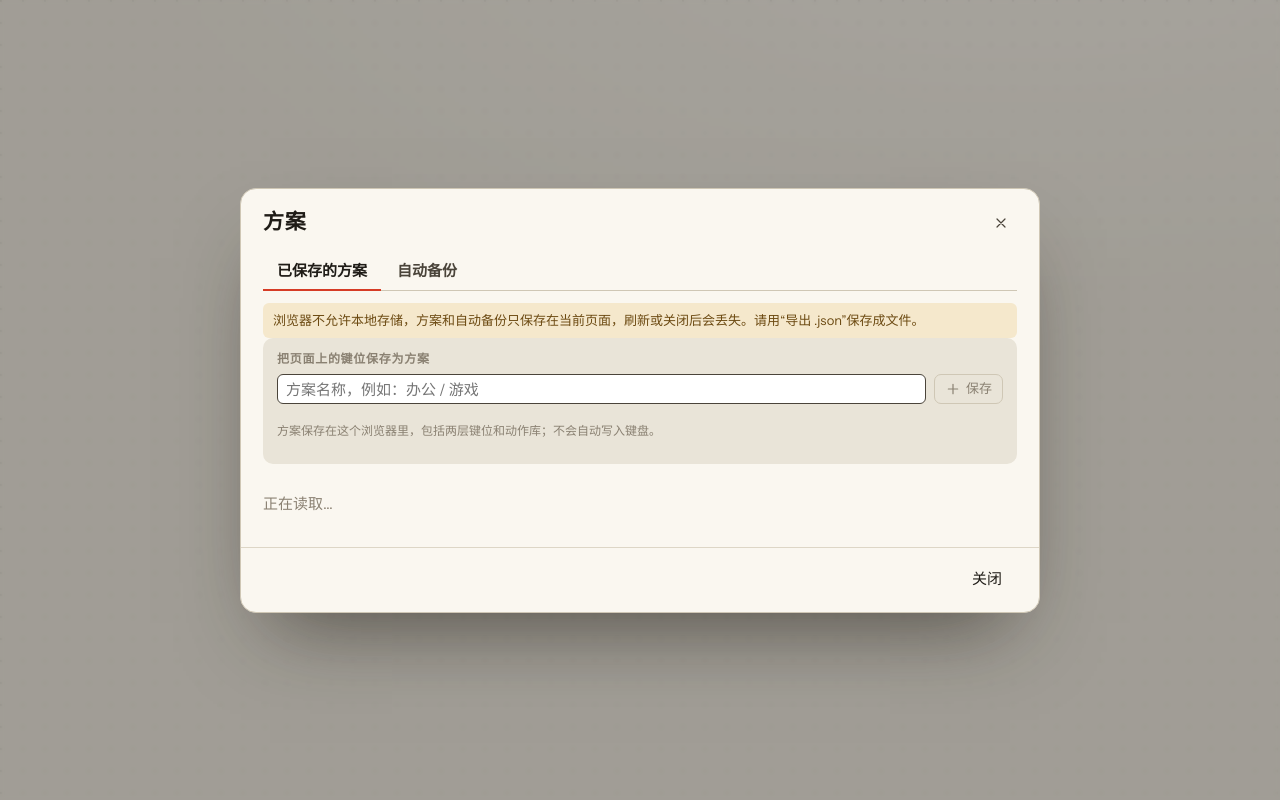
Test: ProfilesDialog › warns when only memory storage is available and shows store errors
Expected: the text "浏览器不允许本地存储，方案和自动备份只保存在当前页面，刷新或关闭后会丢失。请用“导出 .json”保存成文件。" is shown, [263,302,1017,338]
Type "x" into the field labelled "把页面上的键位保存为方案".
click(602, 389); type("x")  # box [277,374,926,404]
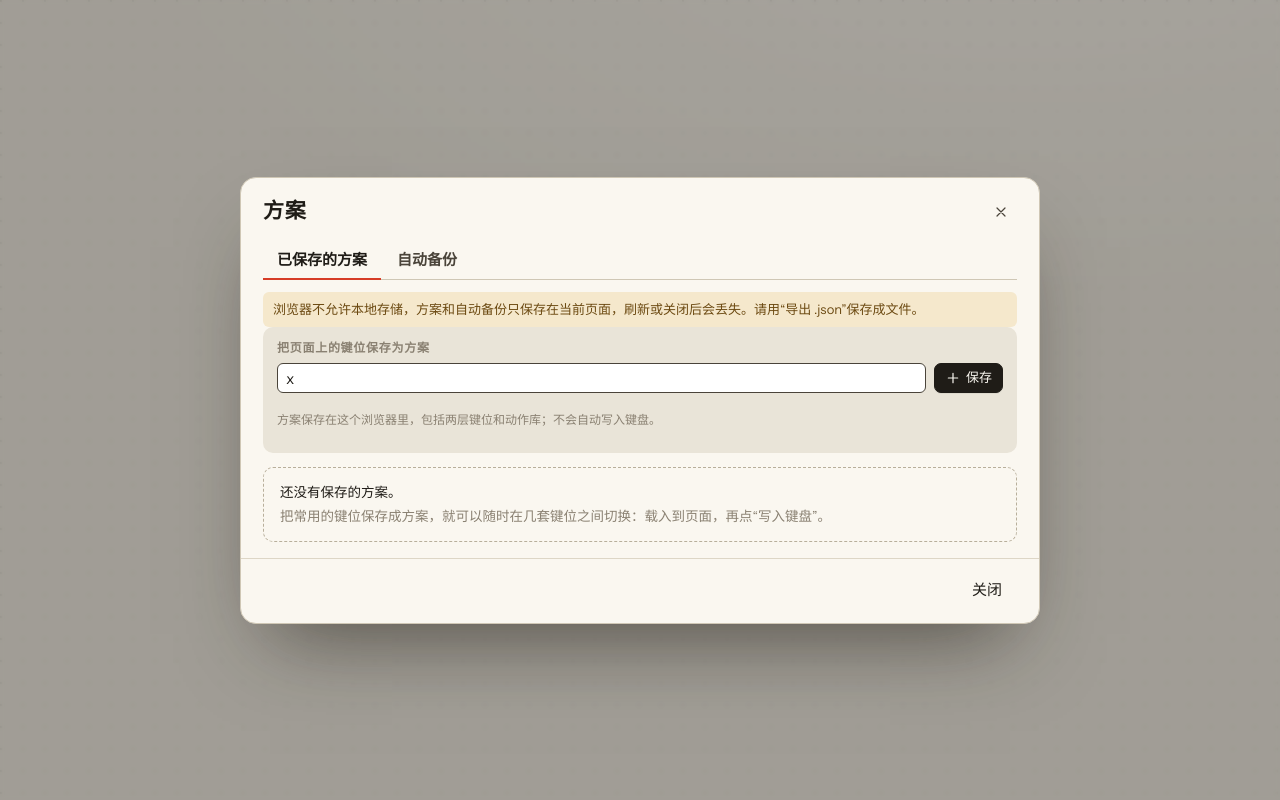
Click the button "保存".
click(968, 378)  # box [934,363,1003,393]
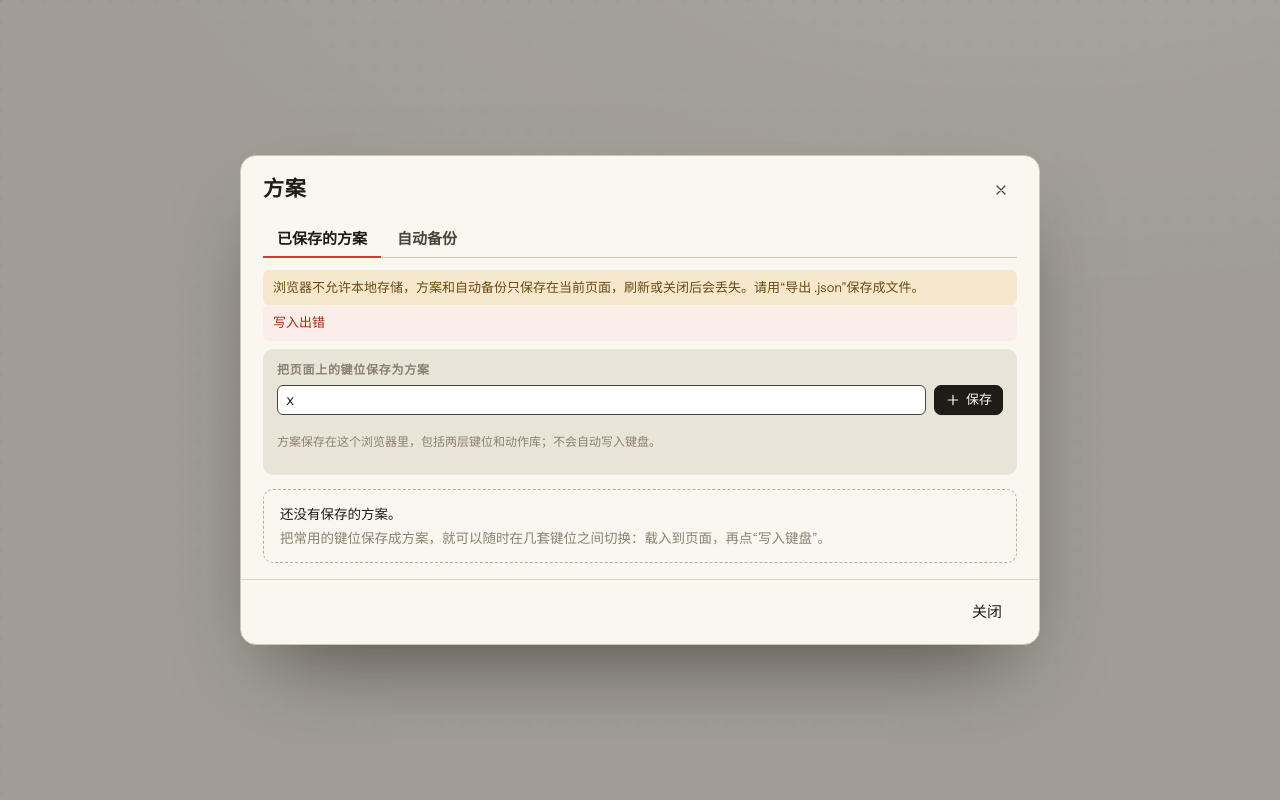
Result: the message reads "写入出错" at [273,314,325,330]
